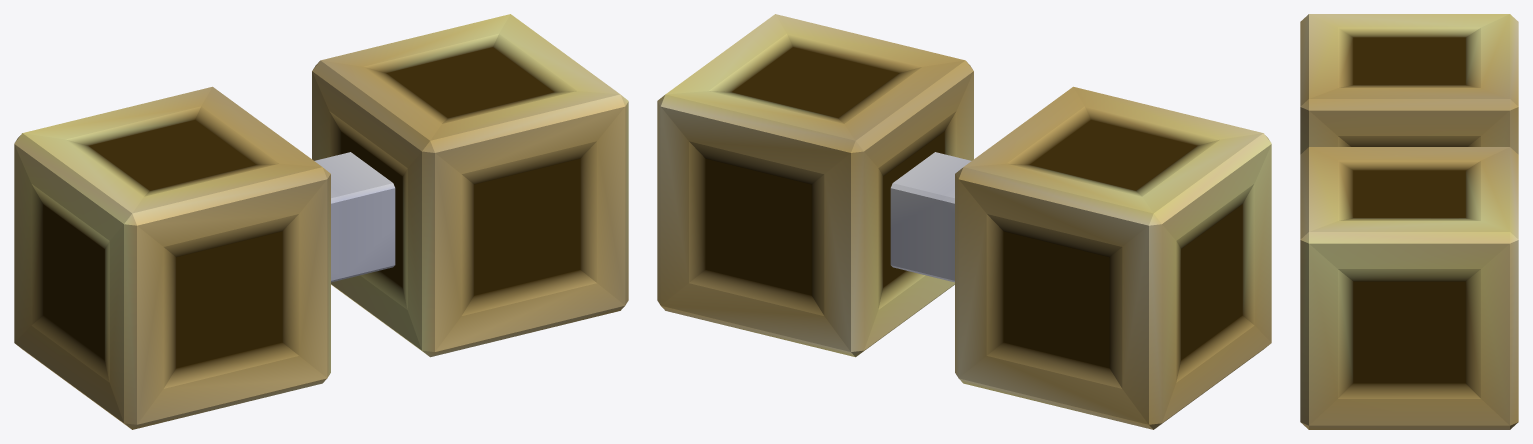
3 views of the same model, side by side, from view 1: azimuth 30°, elevation 25°; view 2: azimuth 150°, elevation 25°; view 3: azimuth 270°, elevation 25° (orthographic). The views are drawn at different scales.
Parts seen in each view (by area): view 1: Obj_Box; view 2: Obj_Box; view 3: Obj_Box.
Boxes of the visible parts, x1=… form: Obj_Box: x1=14, y1=14, x2=628, y2=429; Obj_Box: x1=657, y1=14, x2=1271, y2=429; Obj_Box: x1=1300, y1=14, x2=1518, y2=429.
Bounding box in the file's own units: 97.35 × 39.89 × 39.89.
